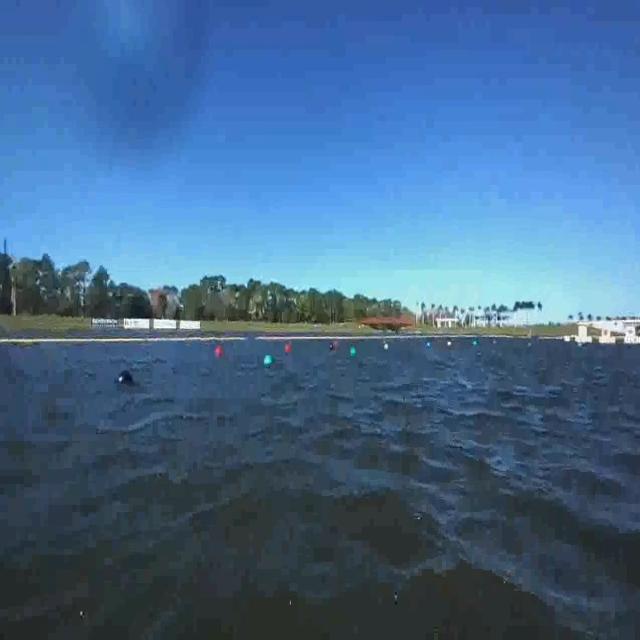black-buoy: (113, 364, 141, 411)
green-buoy: (265, 354, 275, 366), (350, 346, 357, 358)
red-buoy: (211, 340, 229, 362), (282, 339, 294, 356)
